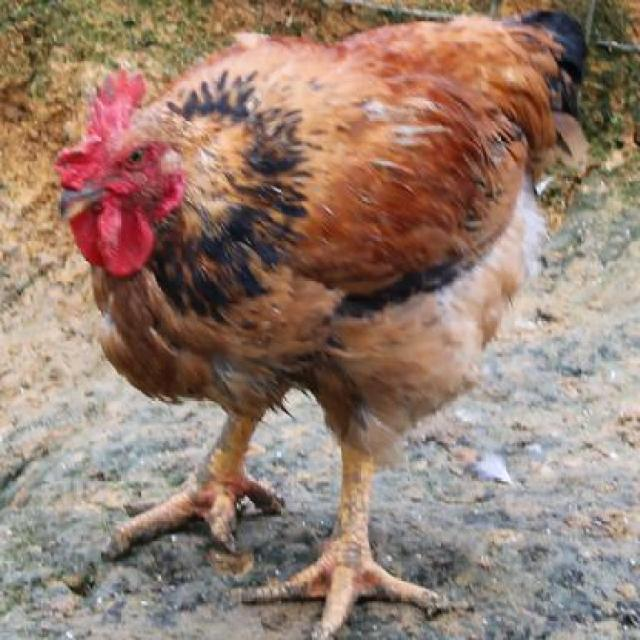cook: (49, 8, 632, 640)
